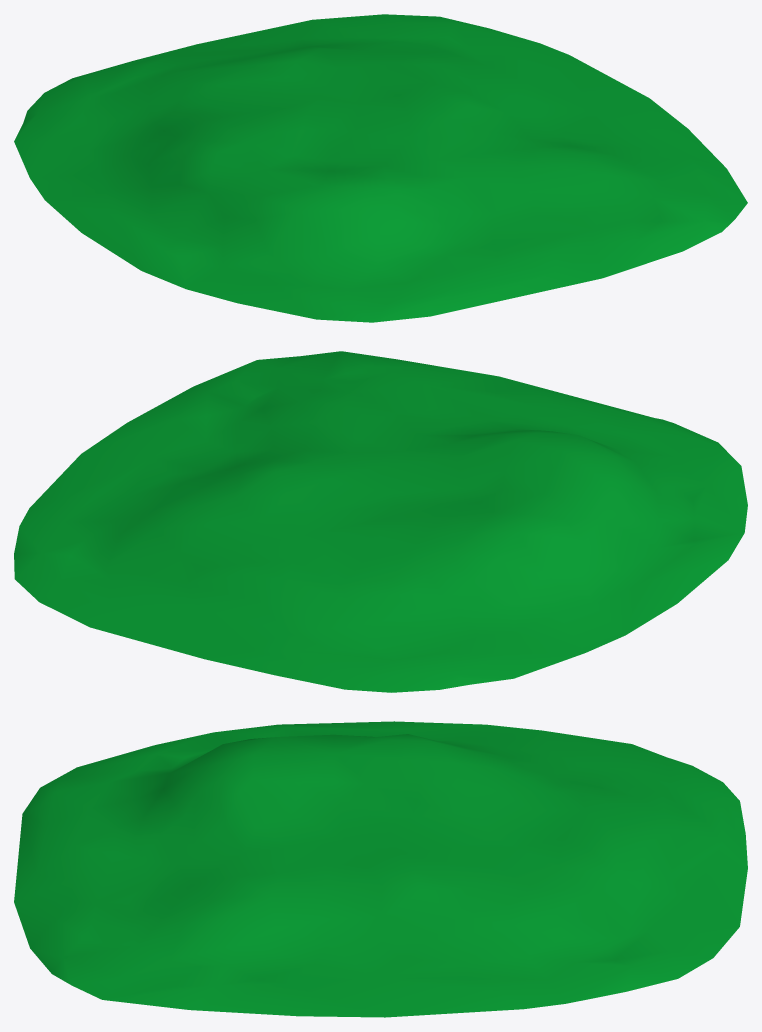
Rendered from Hill2.fbx.
The picture shows the model from 3 angles, top to bottom: view 1: azimuth 30°, elevation 25°; view 2: azimuth 150°, elevation 25°; view 3: azimuth 270°, elevation 25°; orthographic projection. The views are drawn at different scales.
Parts seen in each view (by area): view 1: Hill2; view 2: Hill2; view 3: Hill2.
Part boxes in pixels (<box>): Hill2: <box>14,14,747,322</box>; Hill2: <box>14,351,747,692</box>; Hill2: <box>14,721,747,1017</box>.
Size of the model in its own units: 18.87 by 19.77 by 1.7.
